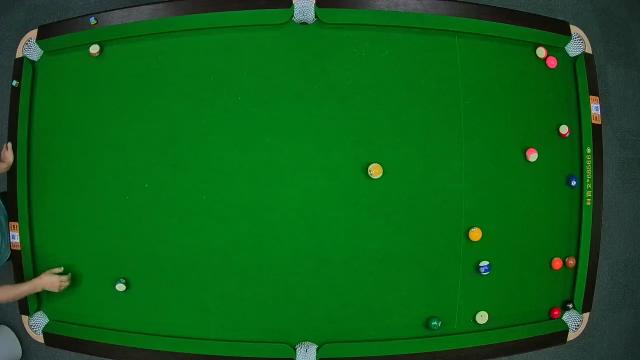bag1: (19, 38, 45, 62)
bag2: (291, 0, 317, 26)
bag3: (566, 29, 588, 57)
bag4: (22, 309, 50, 341)
bag5: (294, 340, 320, 360)
bag6: (563, 308, 585, 332)
ball0: (476, 310, 490, 324)
ball1: (466, 226, 482, 242)
ball10: (476, 261, 492, 277)
ball11: (556, 124, 570, 138)
ball12: (524, 148, 540, 164)
ball13: (536, 47, 548, 59)
ball14: (114, 278, 130, 294)
ball15: (88, 43, 104, 59)
ball2: (566, 174, 580, 188)
ball3: (548, 306, 564, 322)
ball4: (546, 56, 558, 68)
ball5: (550, 258, 564, 274)
ball6: (426, 316, 442, 332)
ball7: (564, 254, 578, 270)
ball8: (562, 300, 574, 312)
ball9: (368, 164, 384, 180)
